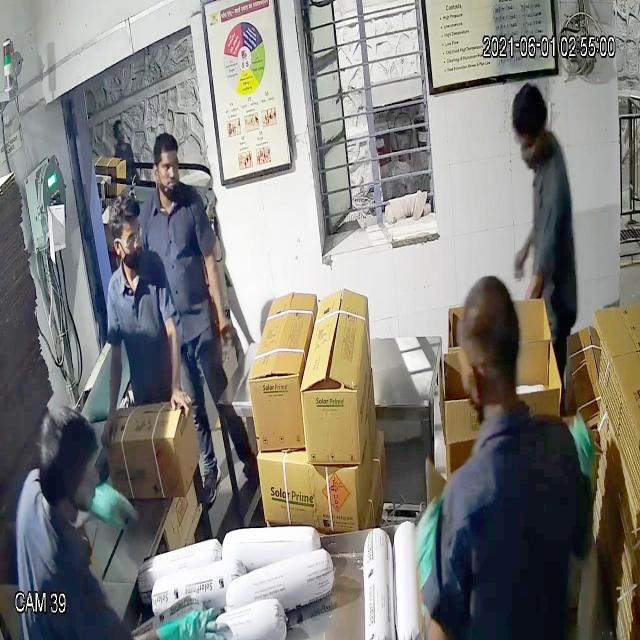glasses: (108, 215, 146, 257)
